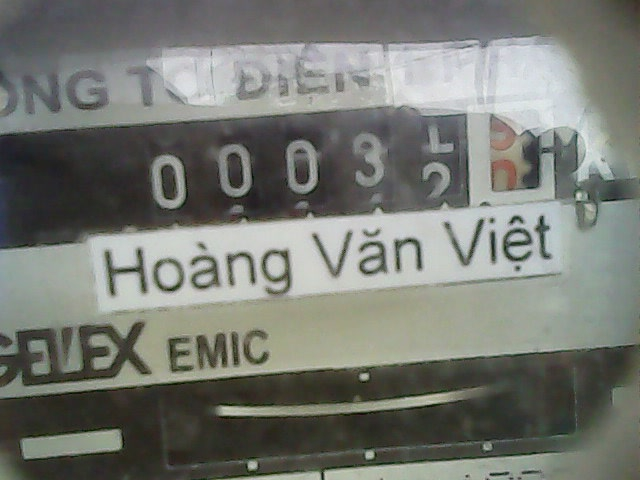phy_plate: (131, 97, 567, 221)
